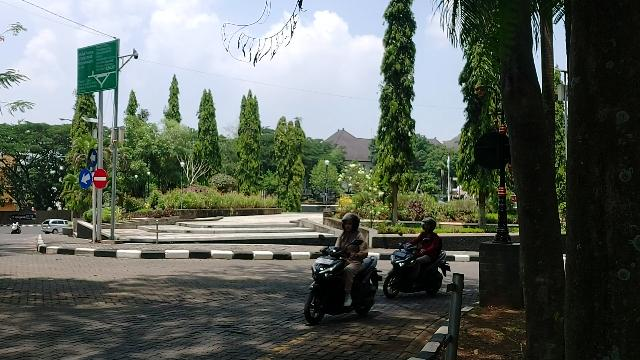helm: (341, 214, 361, 235), (422, 217, 438, 234)
motor: (304, 235, 384, 325), (384, 232, 452, 301)
